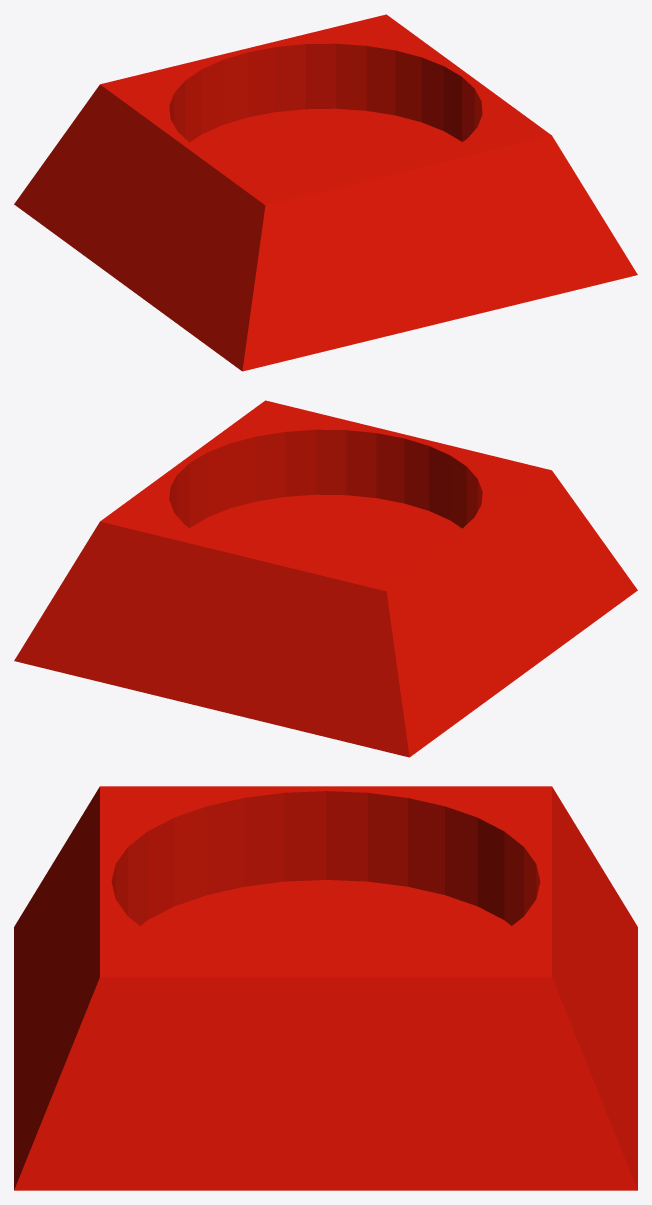
The model's file is fireBox.fbx.
The picture shows the model from 3 angles, top to bottom: view 1: azimuth 30°, elevation 25°; view 2: azimuth 150°, elevation 25°; view 3: azimuth 270°, elevation 25°; orthographic projection. The views are drawn at different scales.
Parts seen in each view (by area): view 1: Cube; view 2: Cube; view 3: Cube.
Boxes of the visible parts, left/top/right/bottom form: Cube: left=14, top=14, right=637, bottom=371; Cube: left=14, top=400, right=637, bottom=757; Cube: left=14, top=786, right=637, bottom=1190.
Bounding box in the file's own units: 200 × 62.7 × 200.
